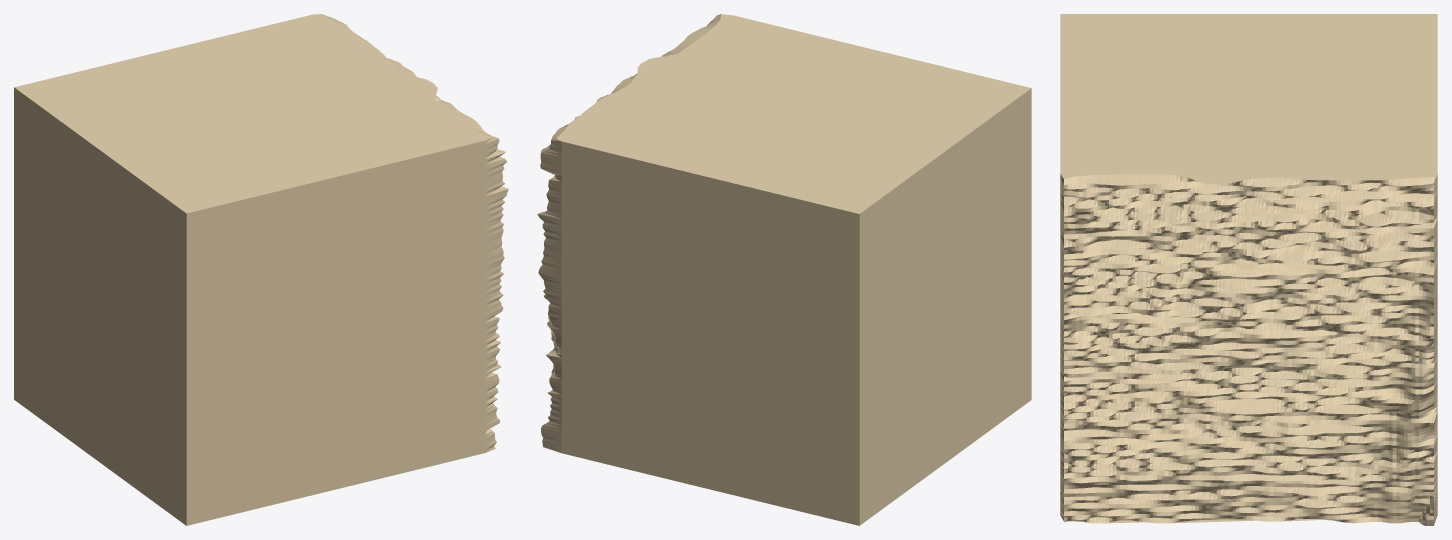
File: latd.png.obj
3 views of the same model, side by side, from view 1: azimuth 30°, elevation 25°; view 2: azimuth 150°, elevation 25°; view 3: azimuth 270°, elevation 25° (orthographic). The views are drawn at different scales.
Parts seen in each view (by area): view 1: Cube; view 2: Cube; view 3: Cube.
Part boxes in pixels (x1,y1,x2,y2): Cube: (14, 14, 508, 525); Cube: (537, 14, 1031, 525); Cube: (1060, 14, 1437, 525).
Bounding box in the file's own units: 1.1 × 1 × 1.
